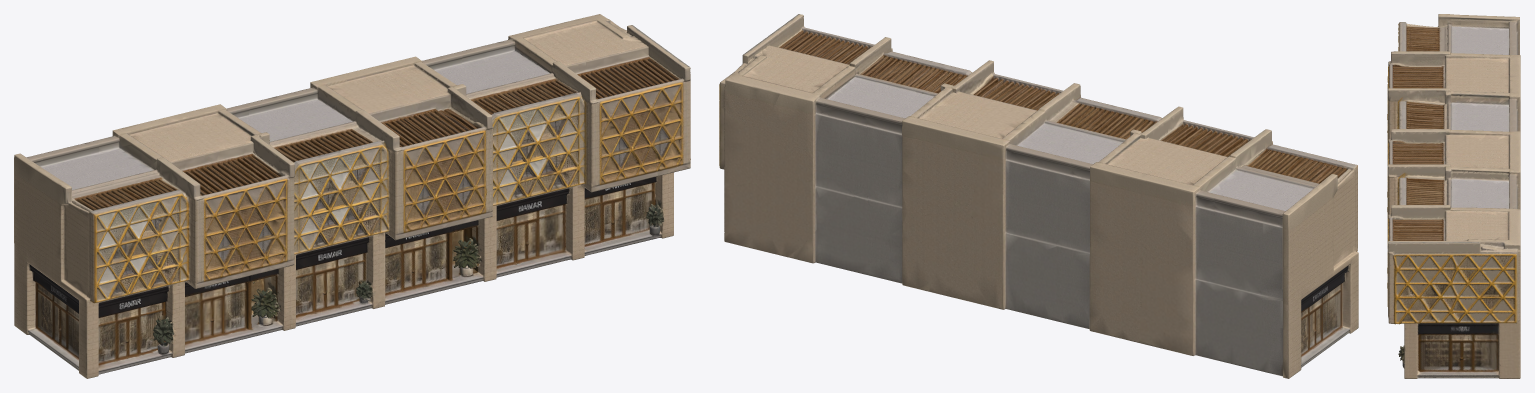
Rendered from shophouse.glb.
3 renders of one model, left to right at view 1: azimuth 30°, elevation 25°; view 2: azimuth 150°, elevation 25°; view 3: azimuth 270°, elevation 25°, orthographic. The views are drawn at different scales.
Parts seen in each view (by area): view 1: mesh_node; view 2: mesh_node; view 3: mesh_node.
Boxes of the visible parts, x1=… form: mesh_node: x1=14, y1=14, x2=690, y2=378; mesh_node: x1=719, y1=14, x2=1358, y2=378; mesh_node: x1=1387, y1=14, x2=1520, y2=378.
Size of the model in its own units: 1.9 by 0.5364 by 0.4648.
Materials: 1 (1 with a texture image).
